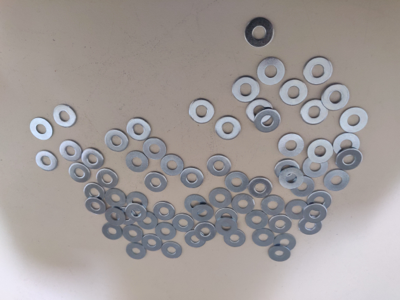circle: (245, 17, 275, 48), (304, 57, 332, 85), (322, 83, 350, 111), (257, 58, 285, 85), (232, 76, 260, 103), (279, 80, 308, 106), (340, 107, 368, 133), (301, 100, 329, 125), (189, 98, 215, 124), (254, 109, 281, 133), (308, 139, 335, 163), (247, 99, 273, 123), (334, 133, 360, 157), (336, 147, 363, 170), (215, 117, 242, 140), (279, 133, 304, 157), (274, 159, 300, 182), (53, 104, 77, 128), (160, 154, 185, 177), (303, 155, 327, 178), (127, 118, 151, 141), (105, 129, 129, 152), (125, 150, 149, 173), (180, 167, 205, 189), (206, 155, 231, 177), (224, 171, 249, 193), (248, 177, 273, 199), (324, 170, 350, 191), (143, 138, 167, 160), (144, 171, 168, 193), (279, 168, 304, 189), (306, 191, 332, 211), (81, 148, 104, 170), (30, 118, 53, 140), (125, 191, 148, 213), (290, 176, 314, 197), (261, 195, 285, 216), (269, 214, 292, 235), (60, 141, 83, 162), (245, 209, 268, 230), (299, 216, 323, 236), (223, 228, 247, 248), (209, 188, 233, 208), (184, 195, 208, 215), (115, 205, 137, 226), (105, 188, 127, 209), (286, 200, 309, 220), (69, 163, 92, 183), (36, 151, 59, 171), (172, 213, 195, 233), (303, 204, 327, 223), (215, 208, 239, 227), (137, 210, 158, 231), (97, 169, 119, 189), (153, 201, 175, 221), (274, 233, 297, 252), (252, 228, 275, 247), (105, 207, 126, 227), (126, 202, 147, 222), (155, 222, 177, 241), (215, 218, 238, 236), (192, 204, 215, 222), (122, 224, 143, 243), (84, 183, 105, 202), (195, 223, 217, 241), (185, 230, 207, 248), (102, 222, 123, 240), (269, 245, 291, 262), (162, 241, 182, 259), (142, 234, 162, 252), (126, 242, 146, 260), (85, 197, 105, 215)
